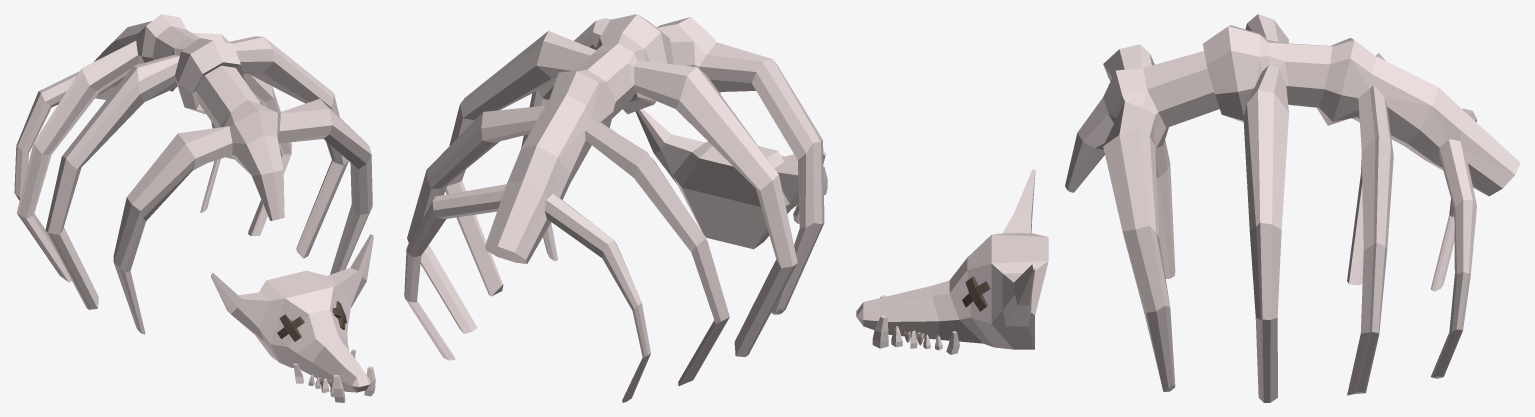
File: DesertBones.fbx
The picture shows the model from 3 angles, left to right: view 1: azimuth 30°, elevation 25°; view 2: azimuth 150°, elevation 25°; view 3: azimuth 270°, elevation 25°; orthographic projection. The views are drawn at different scales.
Visible parts, largest first — view 1: Desert_Bones_Ribs, Desert_Bones_Head, Desert_Bones_Teeth, Desert_Bones_Eyes; view 2: Desert_Bones_Ribs, Desert_Bones_Head; view 3: Desert_Bones_Ribs, Desert_Bones_Head, Desert_Bones_Teeth.
Part boxes in pixels (bbox=[...]): Desert_Bones_Ribs: bbox=[14, 14, 372, 334]; Desert_Bones_Head: bbox=[211, 234, 373, 392]; Desert_Bones_Teeth: bbox=[293, 349, 375, 402]; Desert_Bones_Eyes: bbox=[277, 301, 346, 341]; Desert_Bones_Ribs: bbox=[404, 14, 824, 402]; Desert_Bones_Head: bbox=[635, 109, 825, 249]; Desert_Bones_Ribs: bbox=[1065, 14, 1520, 402]; Desert_Bones_Head: bbox=[856, 169, 1048, 349]; Desert_Bones_Teeth: bbox=[872, 295, 959, 354].
Bounding box in the file's own units: 774 × 1200 × 623.
